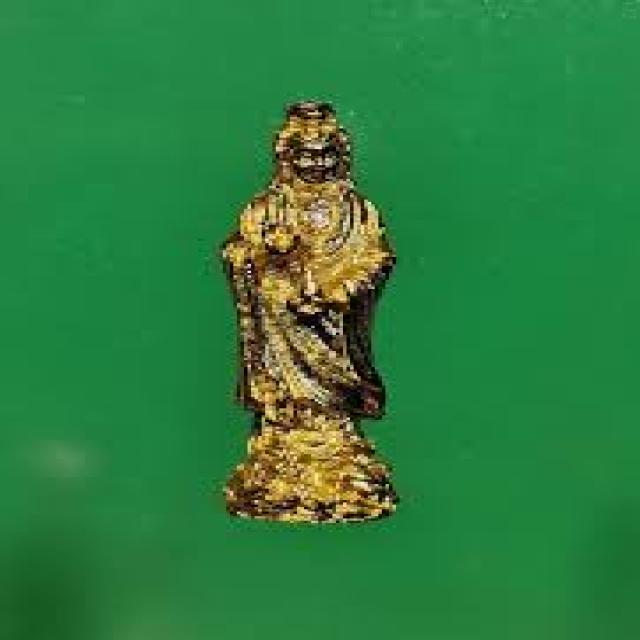Guan Yin: (227, 96, 398, 361)
